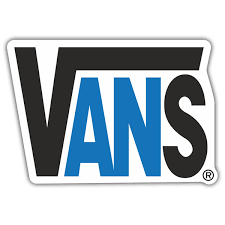vans: (8, 38, 208, 178)
